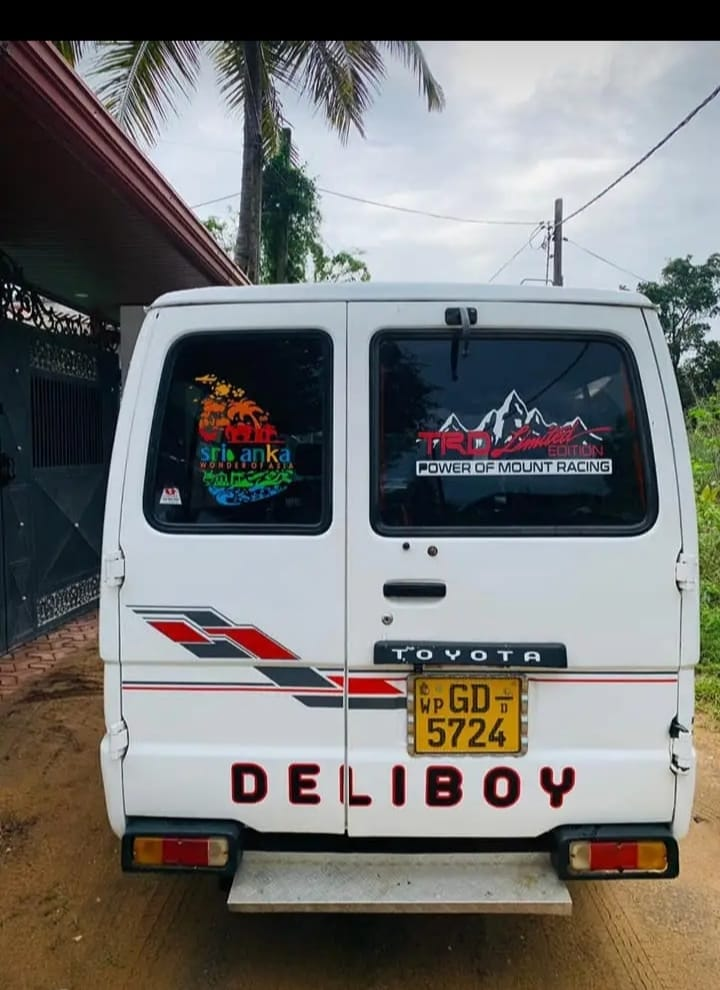number_plate: (406, 678, 525, 757)
